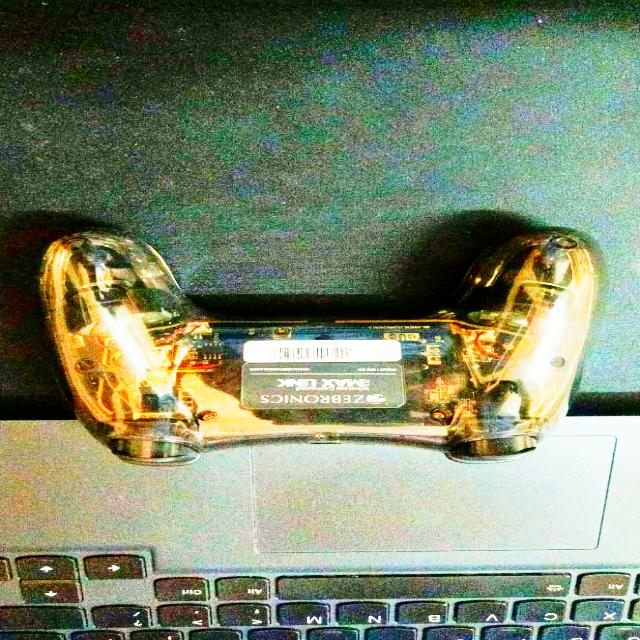gamepad: (41, 230, 600, 470)
